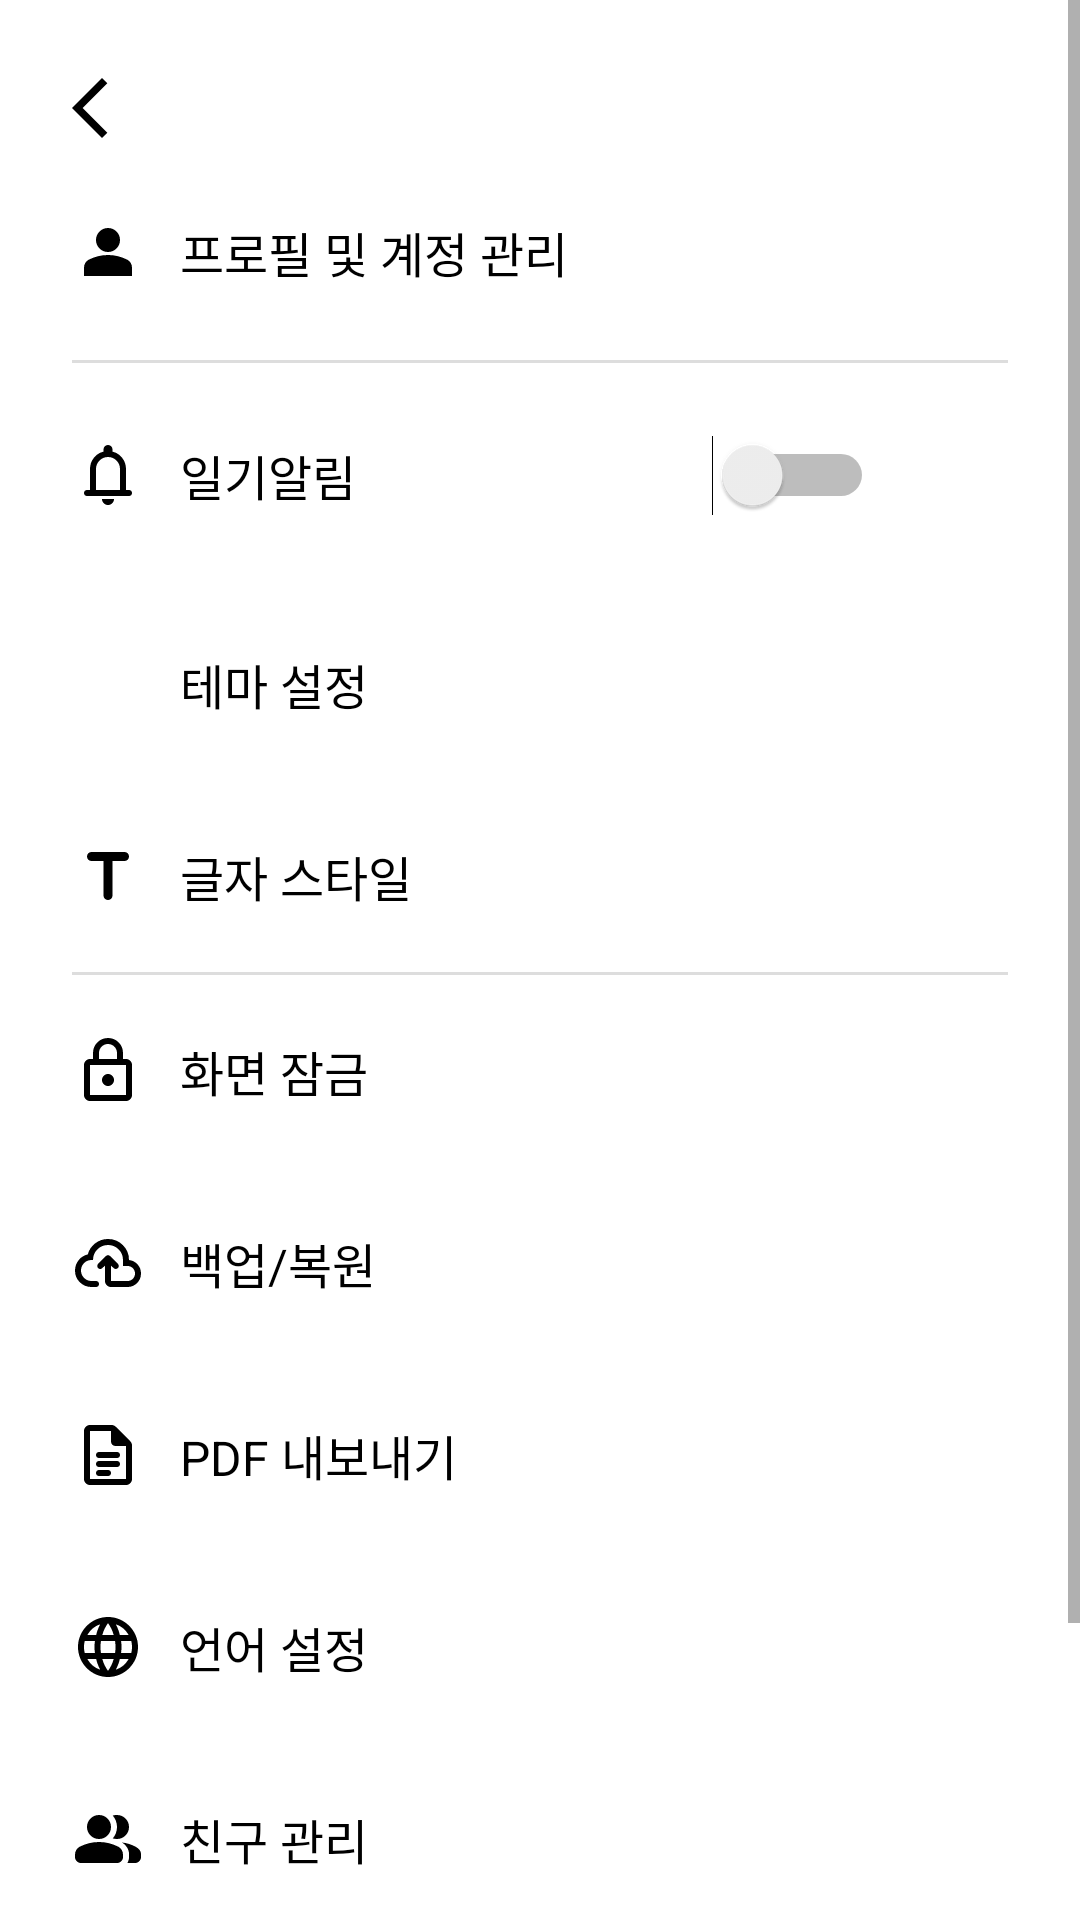

Locate icon controls on the screen. Image size 1080 x 1920, boxes as (x1, y1, x2, y2).
alarm: (84, 445, 132, 505)
cloud: (75, 1239, 141, 1287)
friend: (75, 1815, 141, 1863)
language: (78, 1617, 138, 1677)
lock: (84, 1038, 132, 1101)
profile: (84, 228, 132, 276)
text: (87, 852, 129, 900)
뒤로가기: (72, 78, 107, 138)
